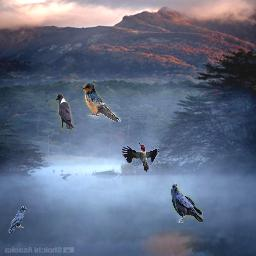Crow: (171, 183, 203, 223), (56, 93, 74, 133), (8, 206, 27, 233)
Swallow: (83, 82, 121, 122)
Woodpecker: (122, 143, 159, 172)
